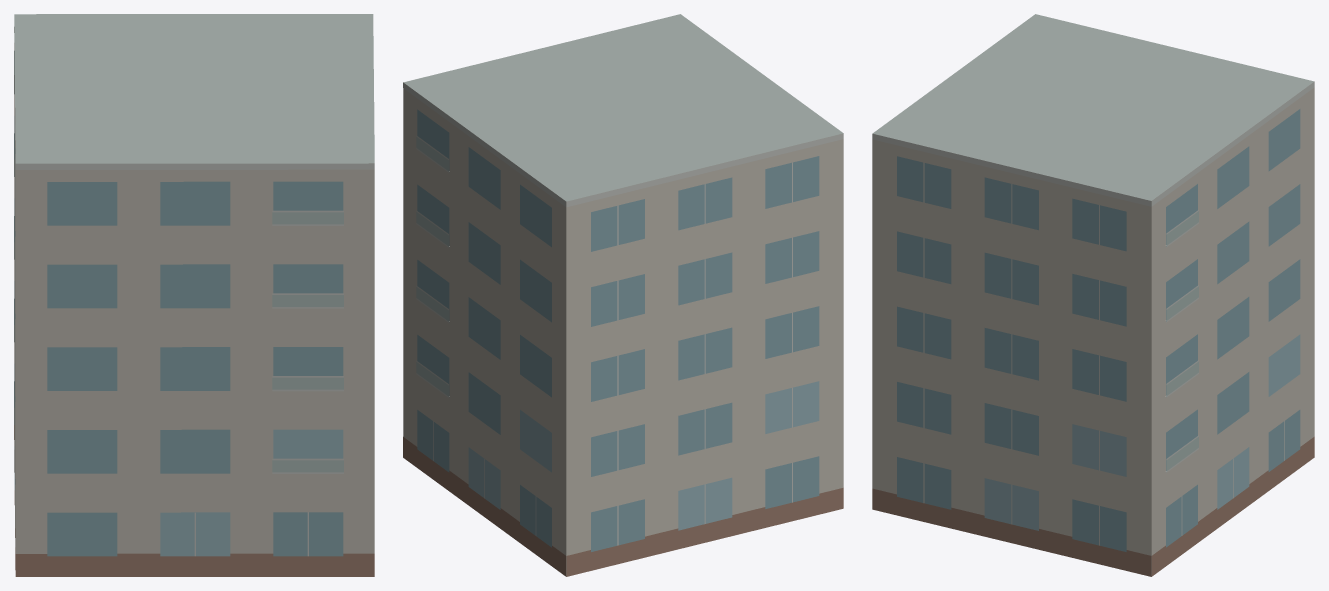
The model's file is survey-upis-32743880.glb.
3 renders of one model, left to right at view 1: azimuth 30°, elevation 25°; view 2: azimuth 150°, elevation 25°; view 3: azimuth 270°, elevation 25°, orthographic. The views are drawn at different scales.
Visible parts, largest first — view 1: survey-upis-32743880.tmp; view 2: survey-upis-32743880.tmp; view 3: survey-upis-32743880.tmp.
Part boxes in pixels (box(x1,y1,x2,y2)): survey-upis-32743880.tmp: box(14, 14, 374, 576); survey-upis-32743880.tmp: box(403, 14, 843, 576); survey-upis-32743880.tmp: box(872, 14, 1314, 576).
Bounding box in the file's own units: 16.97 × 15.9 × 16.96.
